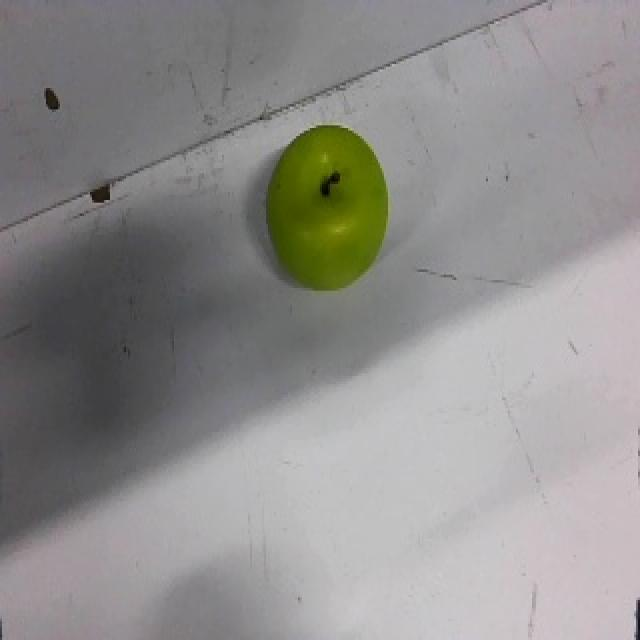apple: (265, 123, 390, 291)
